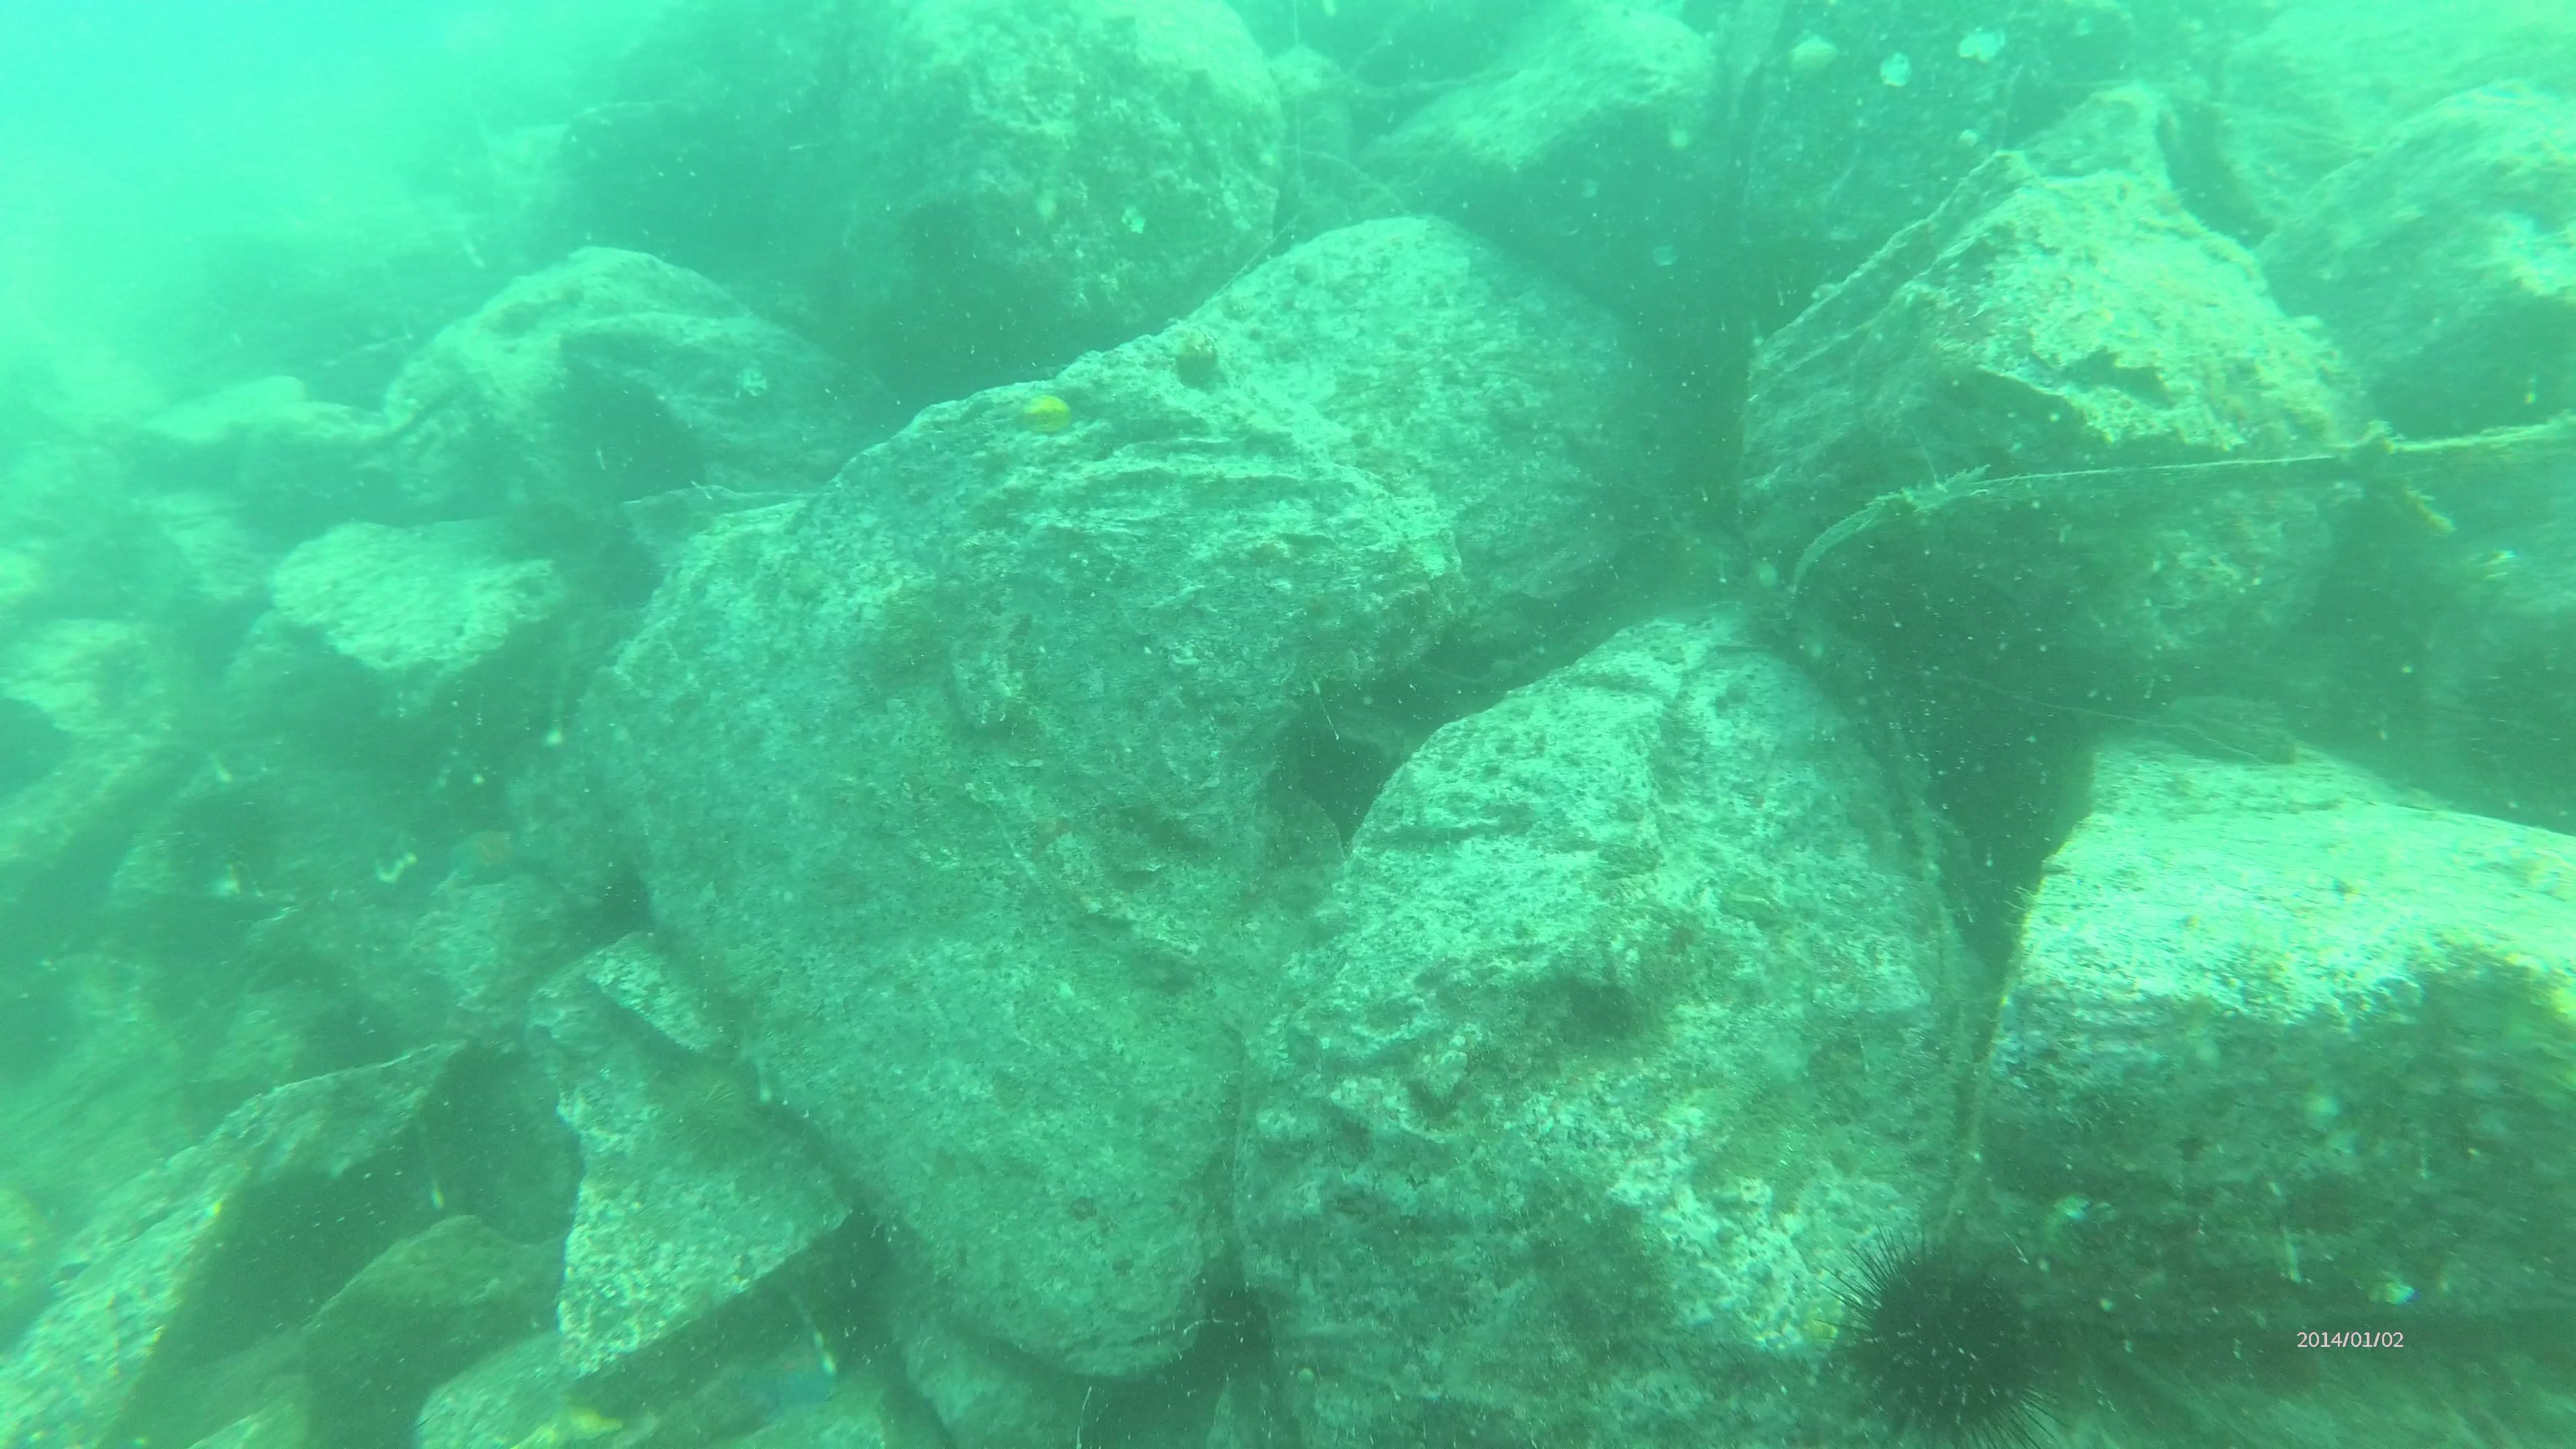echinus: (1817, 1224, 2084, 1449), (639, 1058, 805, 1175), (154, 778, 294, 897)
starfish: (740, 1316, 874, 1421)
